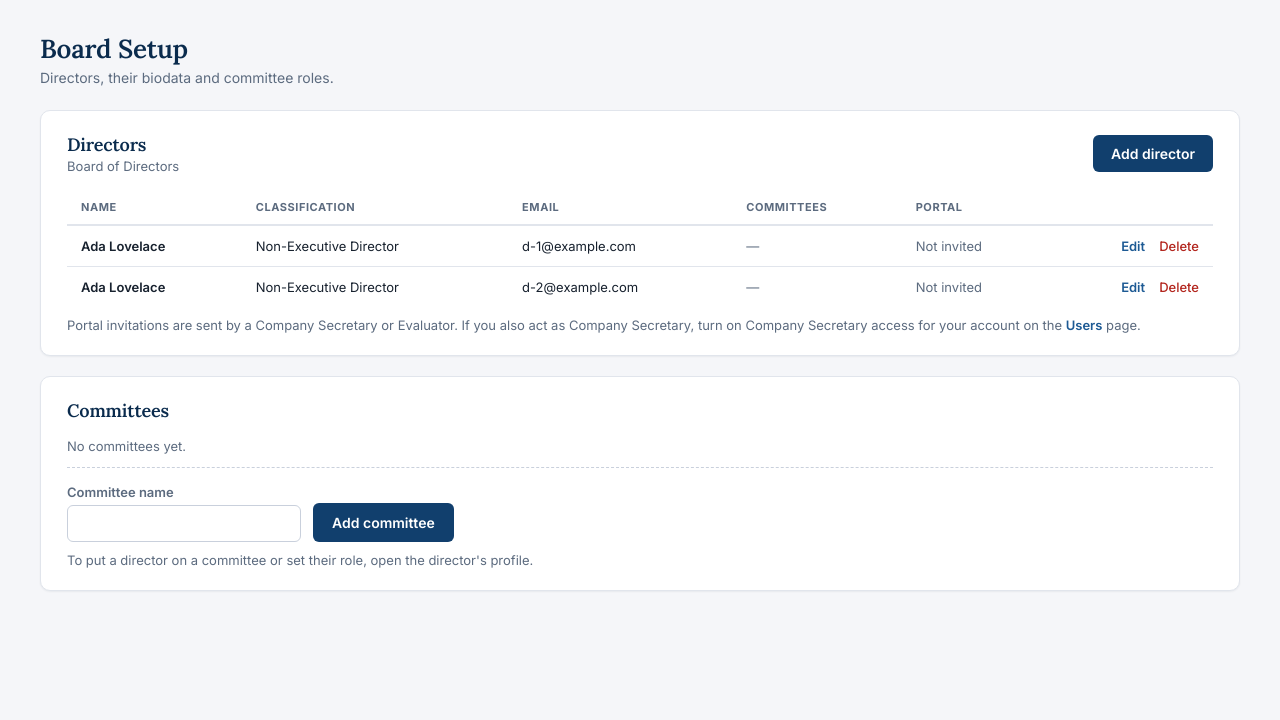
Scenario: BoardSetupPage delete › deletes a duplicated director from the list after confirming
Click the button "Delete" in the row of "d-2@example.com".
click(1179, 287)  # box [1159,279,1199,295]
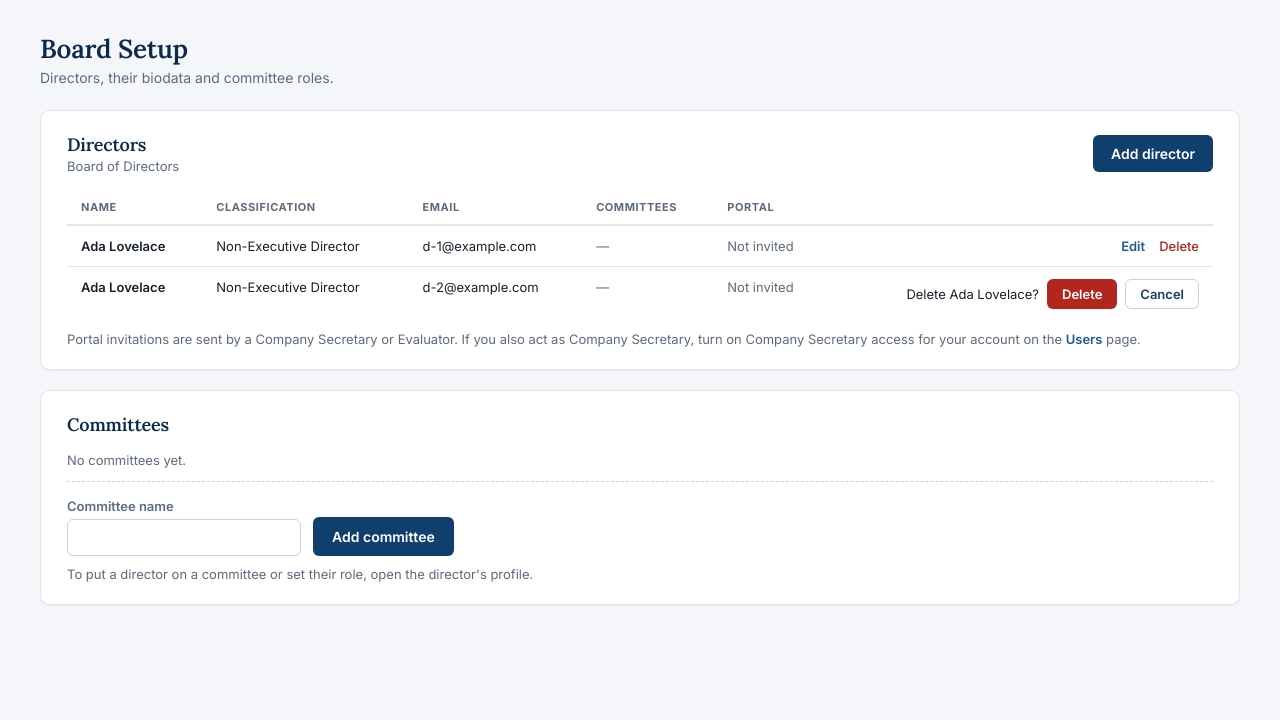
Click the button "Delete" in the row of "d-2@example.com".
click(1082, 294)  # box [1047,279,1117,309]
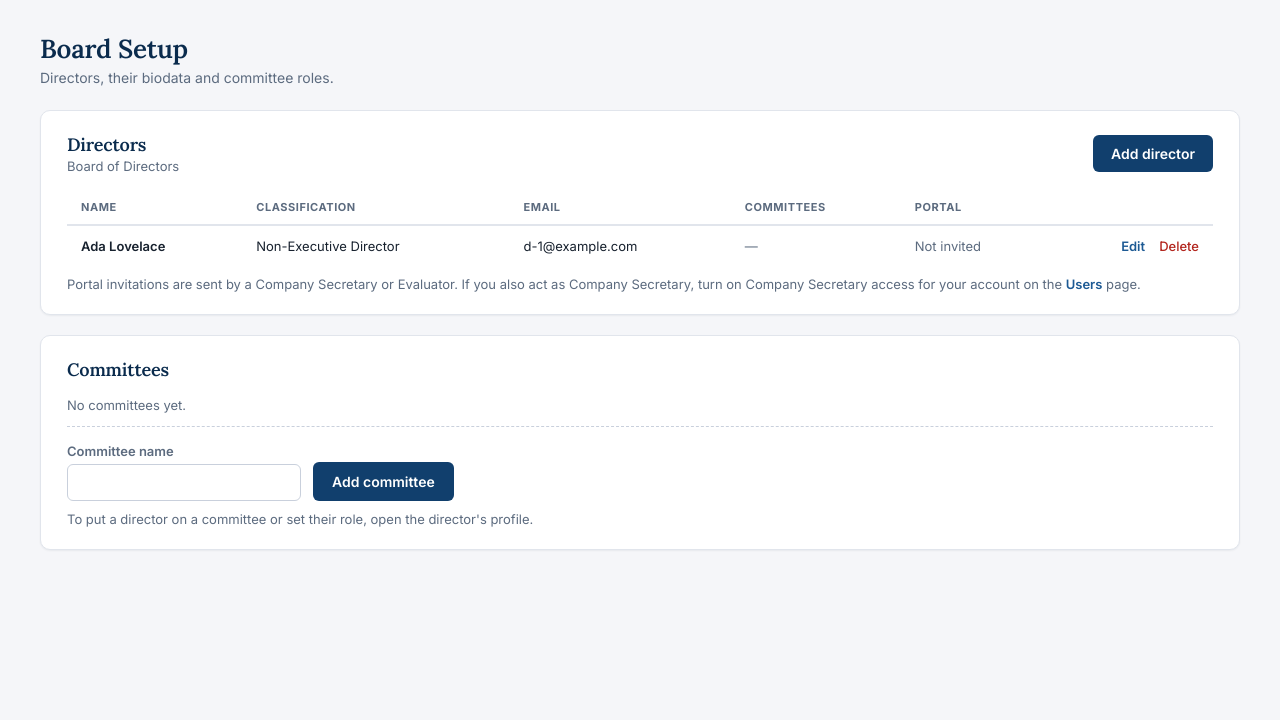
Now the number of links "Ada Lovelace" is 1, box [81,238,165,254]
